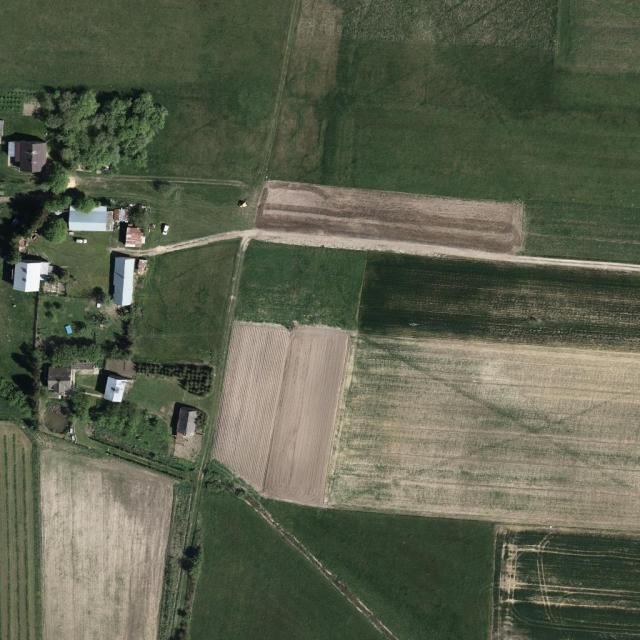building: (12, 259, 68, 295), (8, 141, 48, 172), (112, 256, 135, 306), (69, 206, 114, 231), (15, 141, 48, 173), (46, 366, 75, 397), (176, 406, 198, 439), (103, 375, 127, 404), (125, 226, 146, 250)
greenland: (0, 292, 147, 399), (45, 89, 172, 175), (67, 167, 173, 233), (4, 184, 68, 255), (68, 236, 113, 294)
